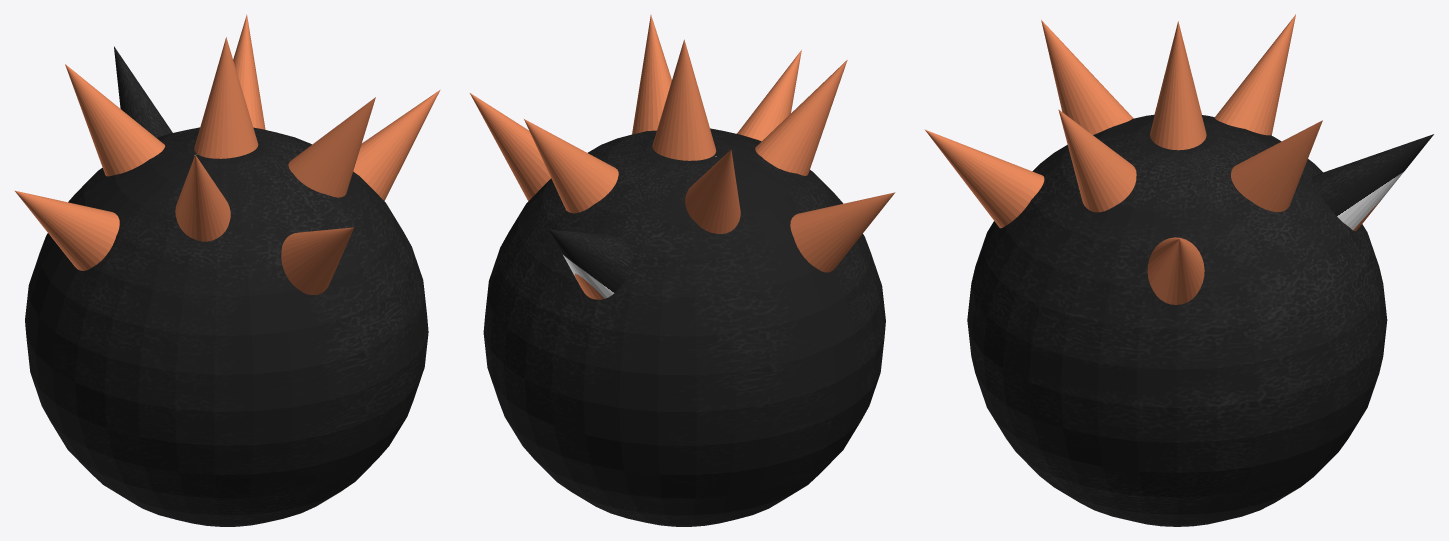
File: enemy.obj
The picture shows the model from 3 angles, left to right: view 1: azimuth 30°, elevation 25°; view 2: azimuth 150°, elevation 25°; view 3: azimuth 270°, elevation 25°; orthographic projection. The views are drawn at different scales.
Visible parts, largest first — view 1: 球.001; view 2: 球.001; view 3: 球.001.
Boxes of the visible parts, x1,y1,x2,y2 form: 球.001: [15, 14, 440, 526]; 球.001: [470, 15, 895, 526]; 球.001: [925, 14, 1433, 526].
Bounding box in the file's own units: 1.22 × 1.28 × 1.22.
Materials: 1 (1 with a texture image).
